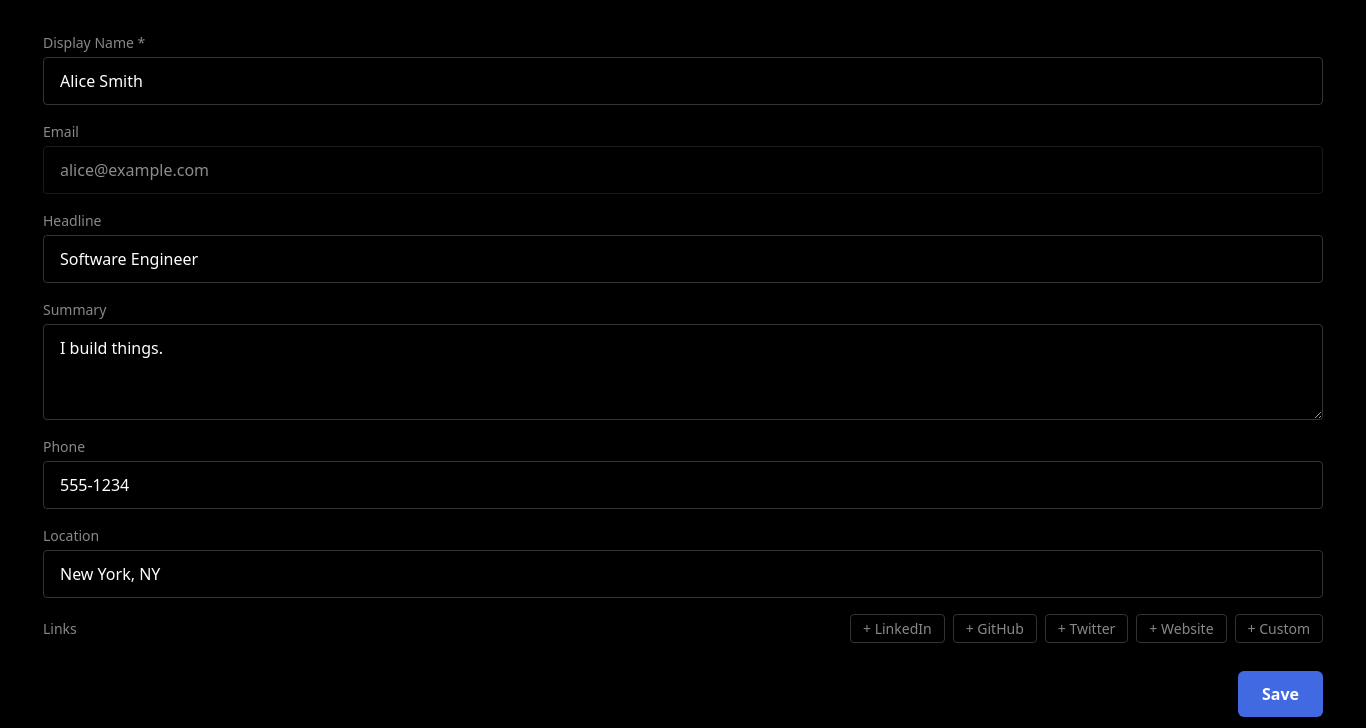
Test: ProfileForm › clicking a predefined button adds a link row with the label pre-filled
This screenshot has width=1366, height=728.
Click the button with test id "btn-add-link-LinkedIn" at (897,628), box [850,614,945,643]
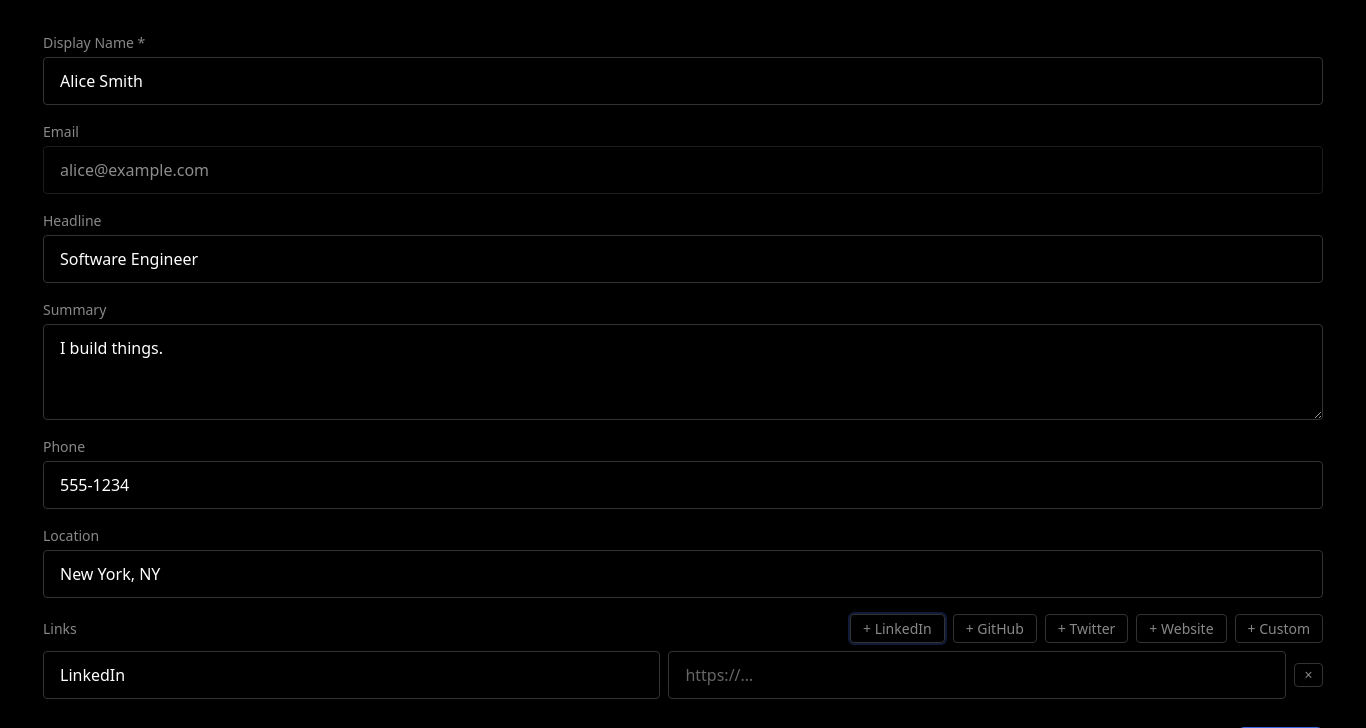
Now the field with test id "input-link-label-0" holds "LinkedIn", box [43,651,660,699]
Now the field with test id "input-link-url-0" is empty, box [668,651,1286,699]
